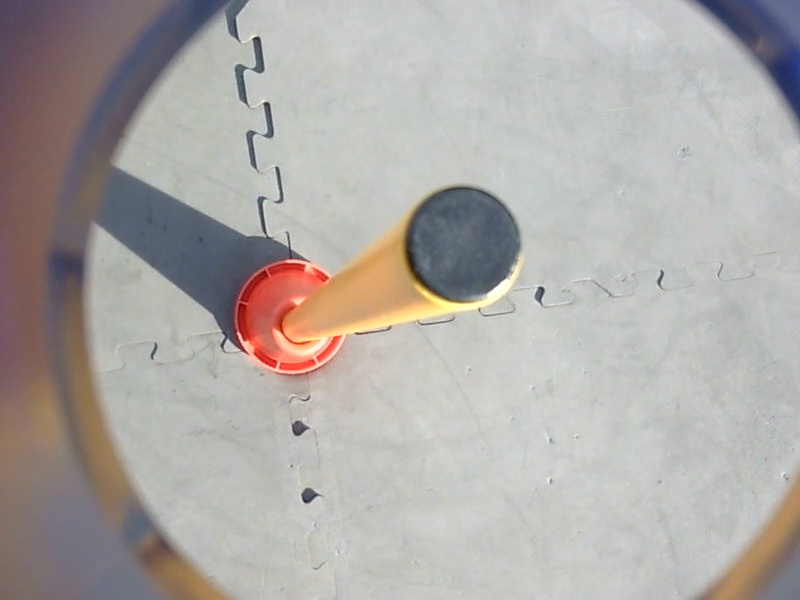tip: (393, 180, 530, 316)
